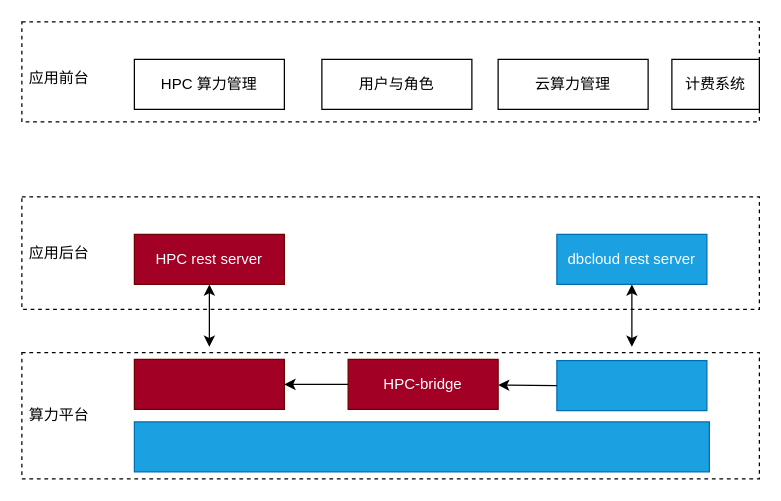
The diagram is 781 pixels wide and 501 high, and some of its shapes have lost their labels. The shapes that lost their labels are listed below. From the top down, each one's box as (x1, y1, x2, y2) in pixels, then its label:
(133, 358, 284, 409): Slurm
(556, 359, 707, 411): 云原生调度
(133, 421, 709, 472): K8s
